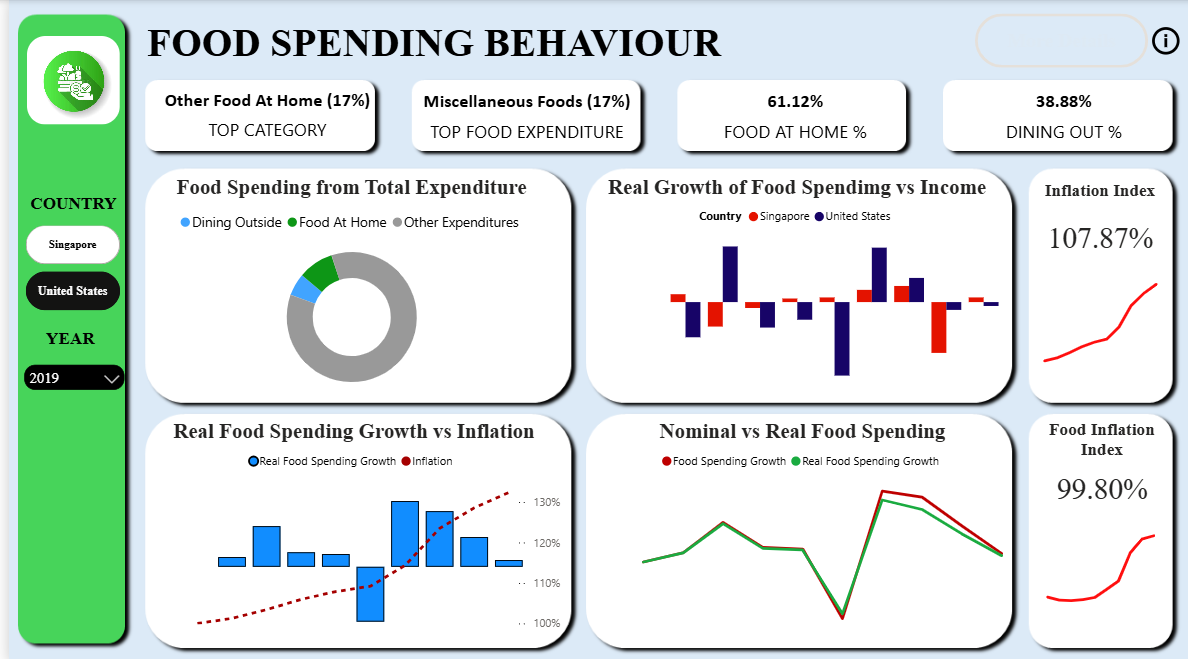

The page's visual inventory and layout, read from the dashboard file:
{"tool":"powerbi","page":{"name":"Main Page","canvas":[1280,720],"ordinal":0},"visuals":[{"type":"group","id":"g1","title":"Group 1","box":[1081.6,232.2,173.4,189.3],"z":0},{"type":"advancedSlicerVisual","fields":{"Values":["Country Dim.Country"]},"box":[501,15.9,342,60.4],"z":1000},{"type":"textbox","box":[0,15.9,482,62],"z":2000},{"type":"slicer","fields":{"Values":["Year Dim.Year"]},"box":[843,19.1,200.4,52.5],"z":3000},{"type":"donutChart","title":"Food Spending from Total Expenditure","fields":{"Series":["AME Percentage.Attribute"],"Y":["Sum(AME Percentage.Value)"]},"box":[36.6,222.7,510.6,210],"z":4000},{"type":"lineChart","title":"Nominal vs Real Food Spending ","fields":{"Category":["Growth Percentage.Year"],"Y":["Sum(Growth Percentage.Food Spending Growth)","Sum(Growth Percentage.Real Food Spending Growth)"]},"box":[561.5,480.4,458.1,202],"z":5000},{"type":"clusteredColumnChart","title":"Real Food Spending Growth vs Real Income Growth","fields":{"Category":["Growth Percentage.Year"],"Y":["Sum(Growth Percentage.Food Minus Income Growth)"],"Series":["Country Dim.Country"]},"box":[558.3,225.9,450.1,202],"z":6000},{"type":"card","fields":{"Values":["Average Monthly Expenditure.Dining Out Portion %"]},"box":[1008.4,100.2,270.4,95.4],"z":7000},{"type":"lineClusteredColumnComboChart","title":"Real Food Spending Growth vs Inflation ","fields":{"Category":["Growth Percentage.Year"],"Y":["Sum(Growth Percentage.Real Food Spending Growth)"],"Y2":["Sum(Growth Percentage.Inflation )"]},"box":[50.9,480.4,458.1,210],"z":8000},{"type":"group","id":"g2","title":"Group 2","box":[1078.4,488.3,179.7,194.1],"z":9000},{"type":"card","fields":{"Values":["Average Monthly Expenditure.Food at Home Portion"]},"box":[672.3,100.2,270.4,95.4],"z":10000},{"type":"card","fields":{"Values":["Measures Table.Top Type of Expenditure"]},"box":[336.1,100.2,270.4,95.4],"z":11000},{"type":"card","fields":{"Values":["Measures Table.Top Category (Card)"]},"box":[0,100.2,270.4,95.4],"z":12000},{"type":"lineChart","fields":{"Category":["Growth Percentage.Year"],"Y":["Sum(Growth Percentage.Food Inflation)"]},"box":[1078.4,531.2,178.1,151.1],"z":12000,"group":"g2"},{"type":"lineChart","fields":{"Category":["Growth Percentage.Year"],"Y":["Sum(Growth Percentage.Inflation)"]},"box":[1081.7,277.5,173.5,145.4],"z":12500,"group":"g1"},{"type":"actionButton","box":[1043.4,15.9,187.7,58.9],"z":13000},{"type":"actionButton","box":[1231.1,25.4,42.9,39.8],"z":14000},{"type":"card","title":"Inflation Index","fields":{"Values":["Sum(Growth Percentage.Inflation)"]},"box":[1081.6,232.2,173.4,84.3],"z":14000,"group":"g1"},{"type":"card","title":"Food Inflation Index","fields":{"Values":["Sum(Growth Percentage.Food Inflation)"]},"box":[1080,488.3,178.1,87.5],"z":15500,"group":"g2"}]}

Visuals, with their boxes in screenshot pixels (x1, y1, x2, y2), scaled from the page's 1280x720 canvas onto the 1188x659 screenshot:
"Group 1" group: 1004/213/1165/386
advancedSlicerVisual - Country Dim.Country: 465/15/782/70
textbox: 0/15/447/71
slicer - Year Dim.Year: 782/17/968/66
"Food Spending from Total Expenditure" donutChart: 34/204/508/396
"Nominal vs Real Food Spending " lineChart: 521/440/946/625
"Real Food Spending Growth vs Real Income Growth" clusteredColumnChart: 518/207/936/392
card - Average Monthly Expenditure.Dining Out Portion %: 936/92/1187/179
"Real Food Spending Growth vs Inflation " lineClusteredColumnComboChart: 47/440/472/632
"Group 2" group: 1001/447/1168/625
card - Average Monthly Expenditure.Food at Home Portion: 624/92/875/179
card - Measures Table.Top Type of Expenditure: 312/92/563/179
card - Measures Table.Top Category (Card): 0/92/251/179
lineChart - Growth Percentage.Year x Sum(Growth Percentage.Food Inflation): 1001/486/1166/624
lineChart - Growth Percentage.Year x Sum(Growth Percentage.Inflation): 1004/254/1165/387
actionButton: 968/15/1143/68
actionButton: 1143/23/1182/60
"Inflation Index" card: 1004/213/1165/290
"Food Inflation Index" card: 1002/447/1168/527
